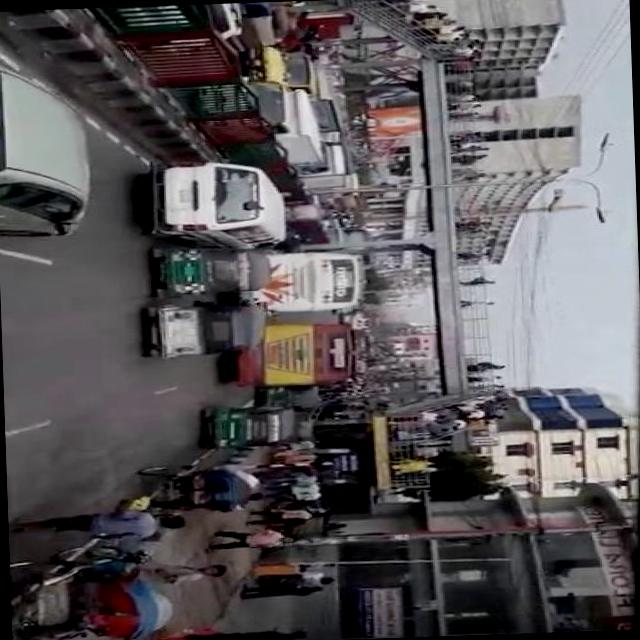bus: (235, 321, 358, 389), (260, 251, 364, 314)
car: (0, 61, 94, 241)
motorcycle: (9, 545, 176, 640), (152, 301, 270, 360), (136, 462, 252, 516), (156, 247, 274, 300), (204, 405, 300, 453), (264, 385, 322, 413)
truck: (149, 159, 289, 254), (198, 76, 327, 169), (243, 44, 344, 136)
